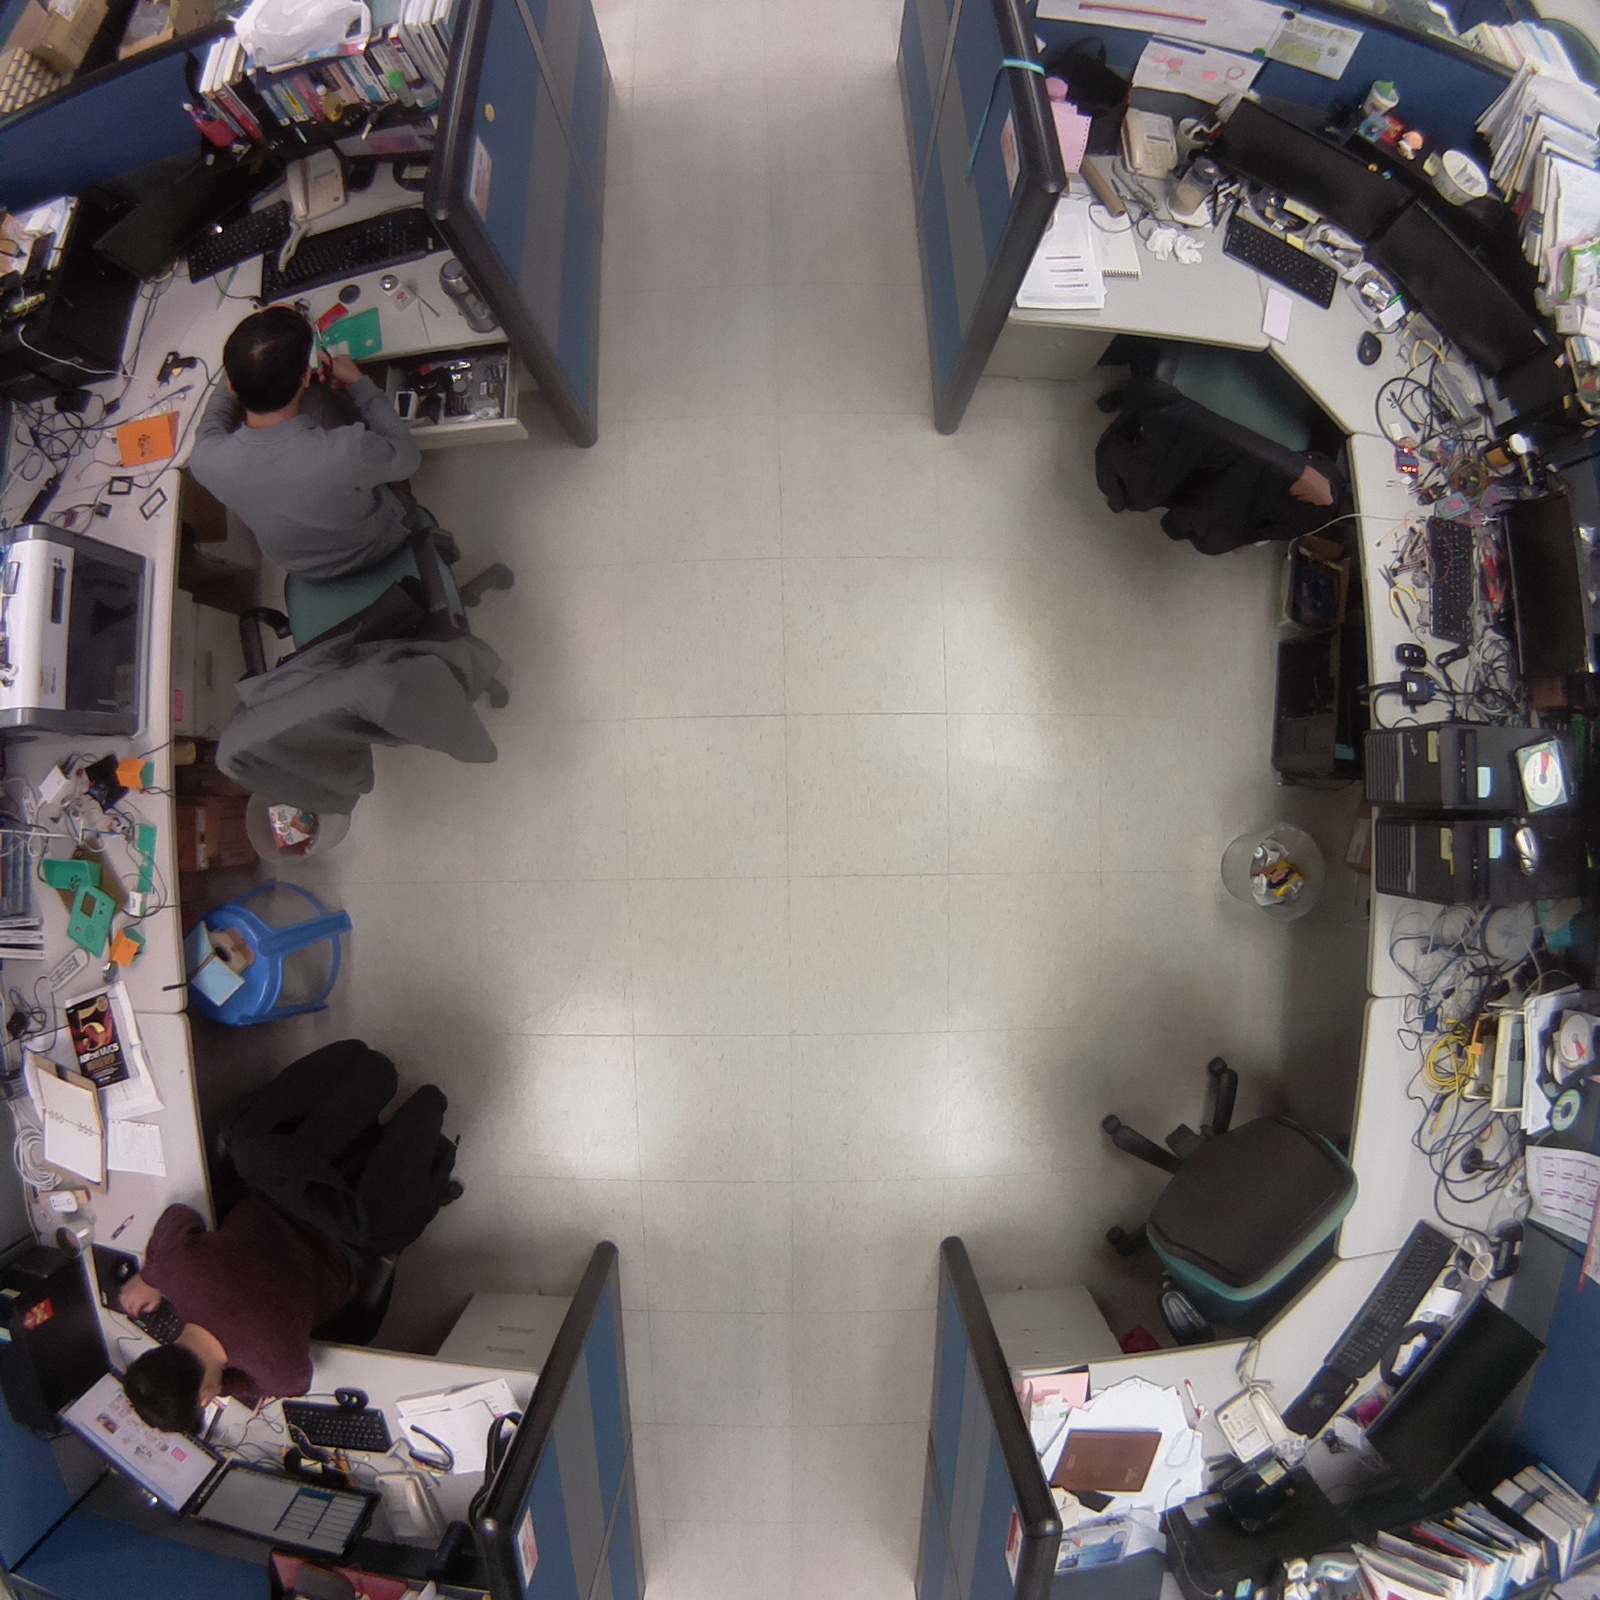chair: (1060, 1040, 1365, 1360), (1078, 317, 1368, 575)
head: (215, 300, 317, 429), (119, 1336, 219, 1446)
sitting: (173, 301, 524, 842), (106, 1022, 486, 1452)
